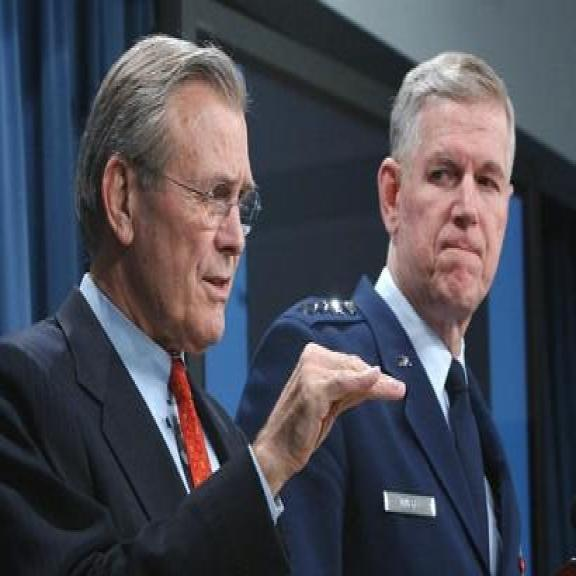face: (108, 79, 258, 364), (376, 82, 521, 326)
